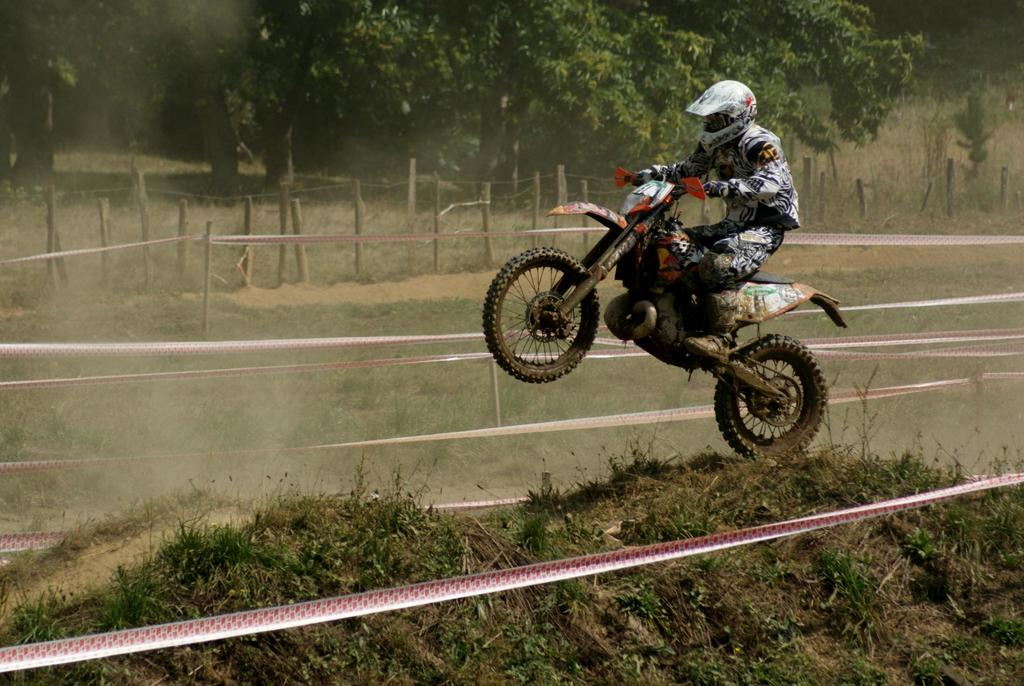Tree: (0, 0, 937, 205)
